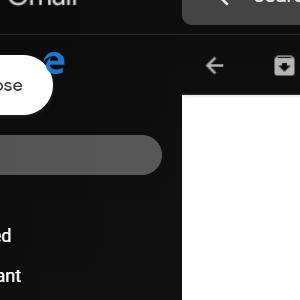edge: (44, 52, 64, 74)
